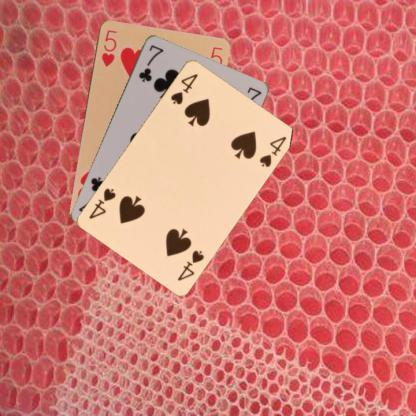4s: (167, 70, 200, 106), (174, 247, 206, 282)
5h: (99, 26, 118, 68)
7c: (136, 42, 164, 84)
